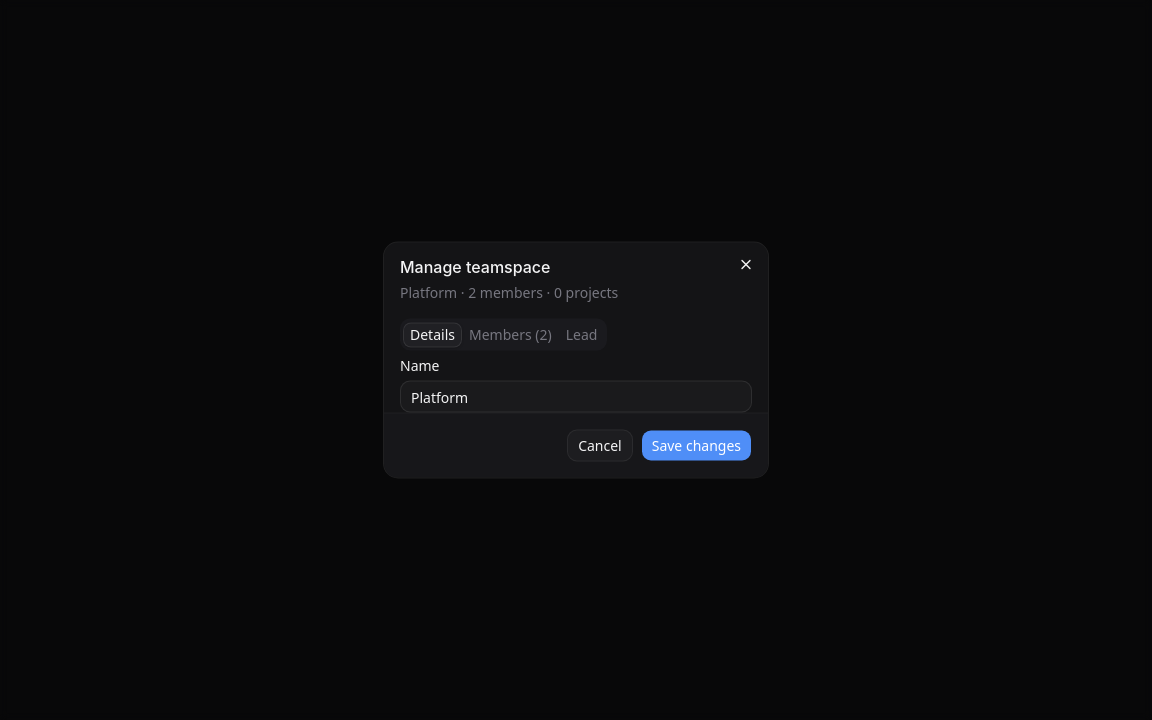
Lead tab + Lead affordances (C92T1) › admin sets a new Lead from the member list
Click the tab "Lead" at (582, 334), box [559,322,604,347]
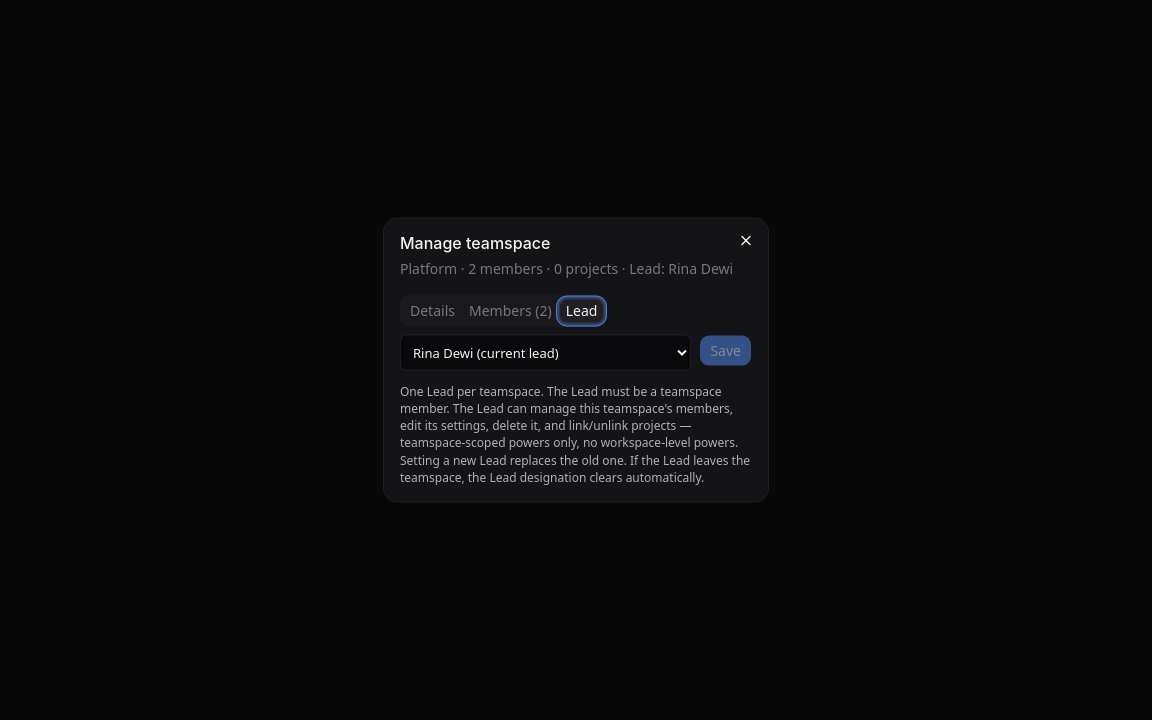
Select "Galih Putro Aji" in the dropdown named "Teamspace lead" at (546, 353), box [400,335,691,371]
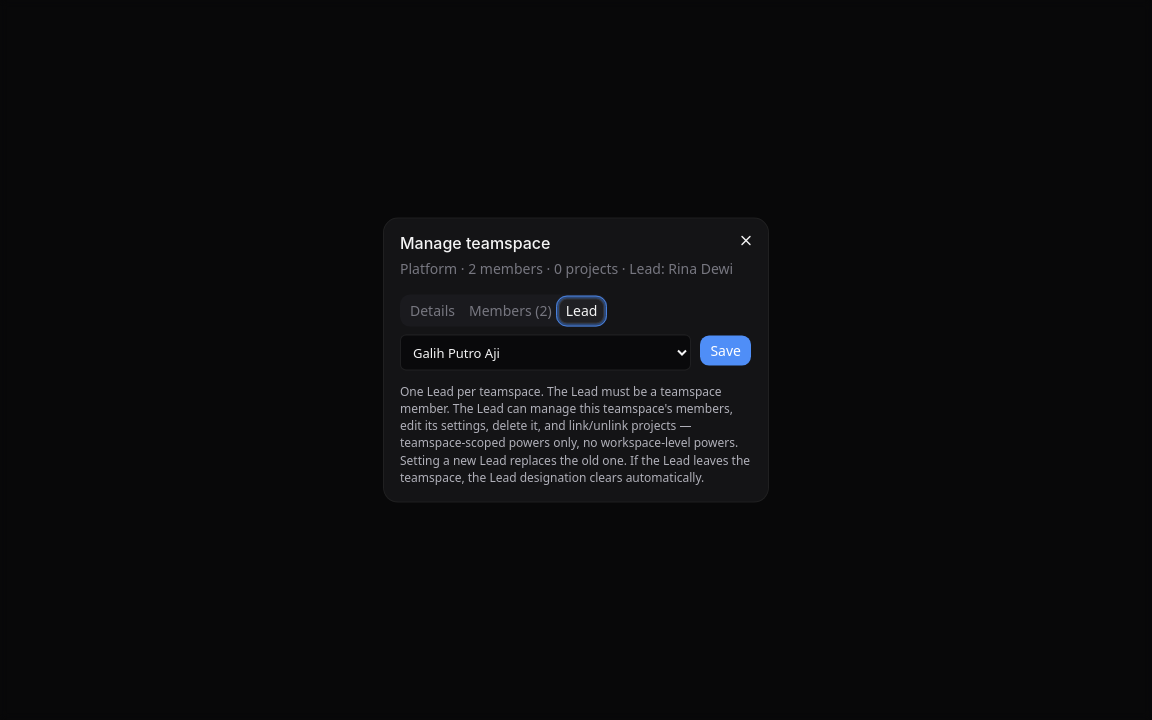
Click the button "Save" at (726, 351), box [699,335,752,367]
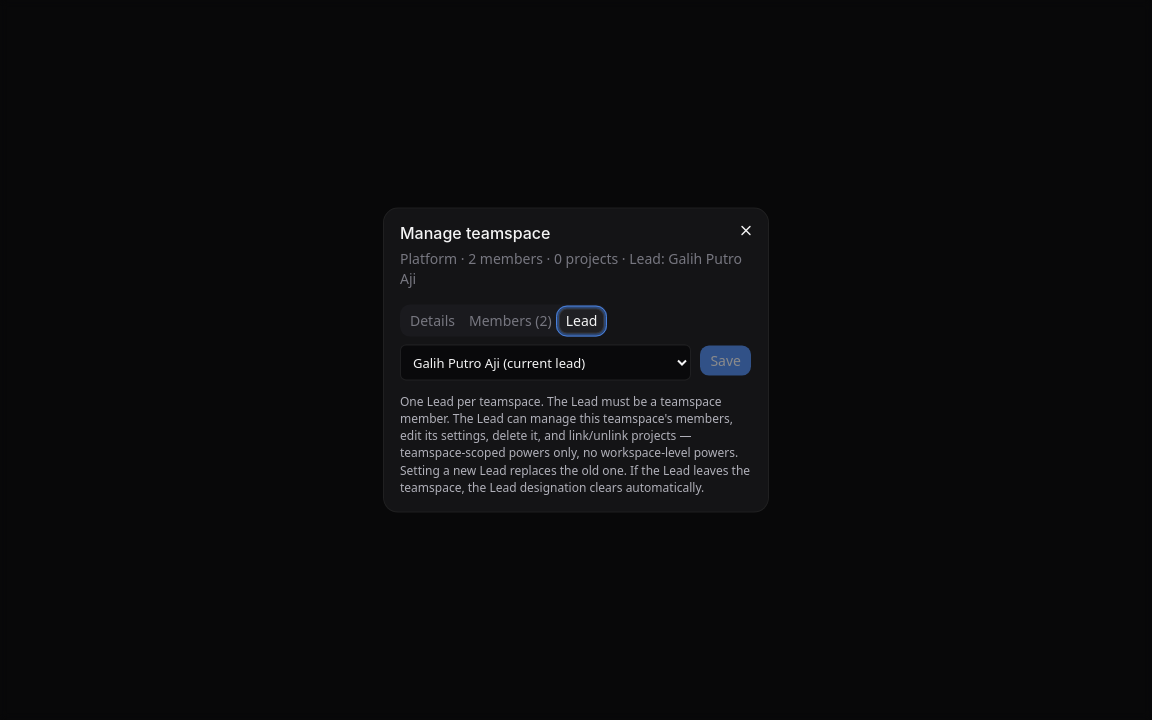
Now the text "Platform · 2 members · 0 projects · Lead: Galih Putro Aji" is shown, box [400,249,752,289]
